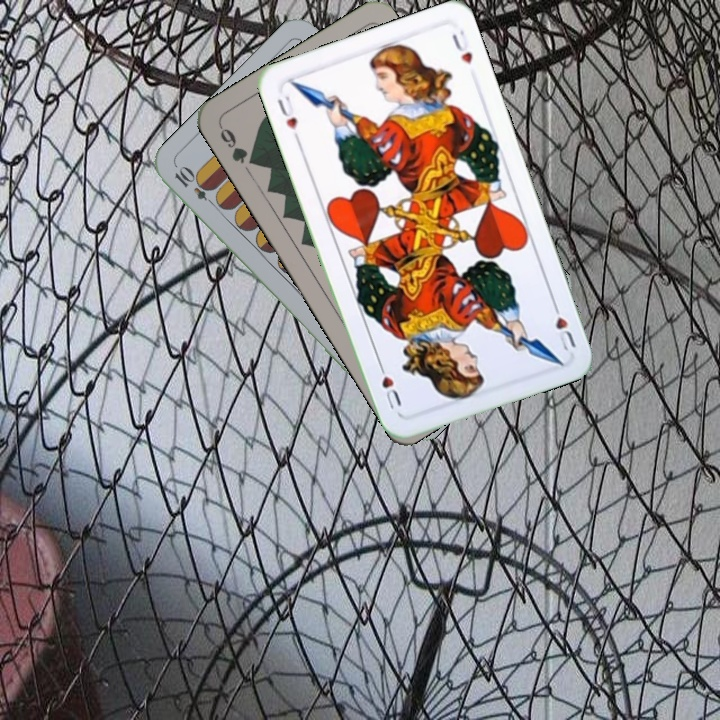E10: (170, 163, 221, 210)
G9: (215, 121, 261, 169)
HU: (548, 297, 578, 354), (273, 91, 302, 144)
